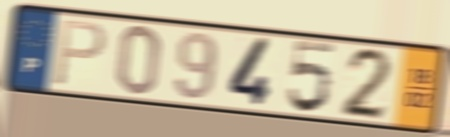0: (113, 23, 163, 98)
2: (339, 47, 397, 123)
4: (225, 34, 277, 111)
5: (284, 38, 337, 116)
9: (171, 30, 218, 103)
P: (50, 18, 109, 89)
